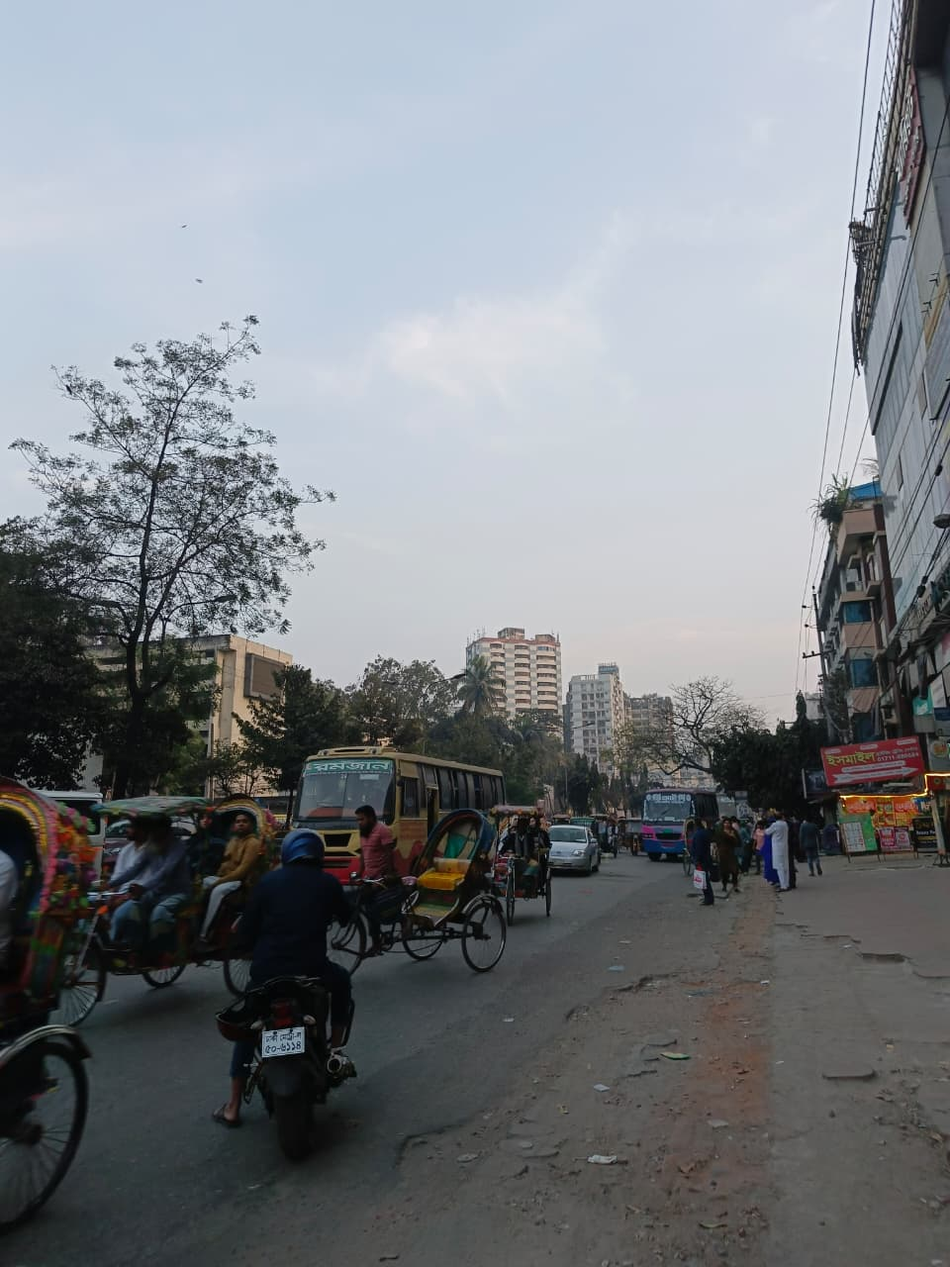Bikes: (223, 810, 412, 1194)
Bus: (267, 726, 604, 848), (631, 760, 754, 878)
auto-ricksaw: (7, 782, 236, 1137), (349, 787, 548, 967)
private car: (520, 817, 621, 898)
